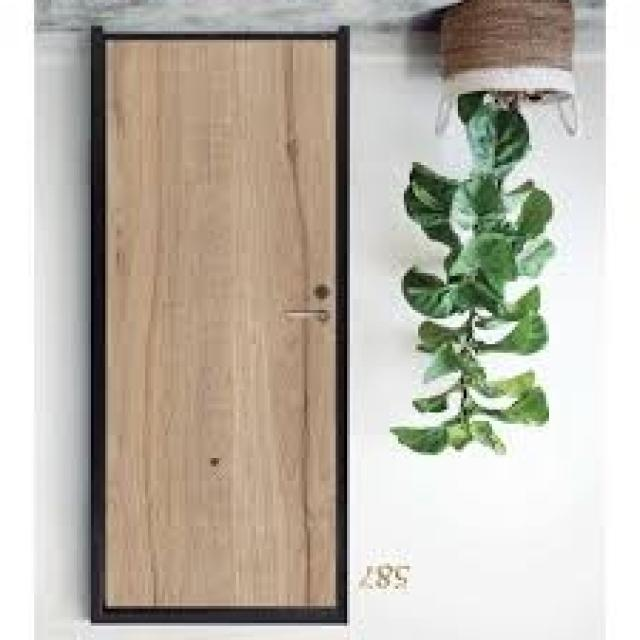door: (91, 28, 347, 626)
